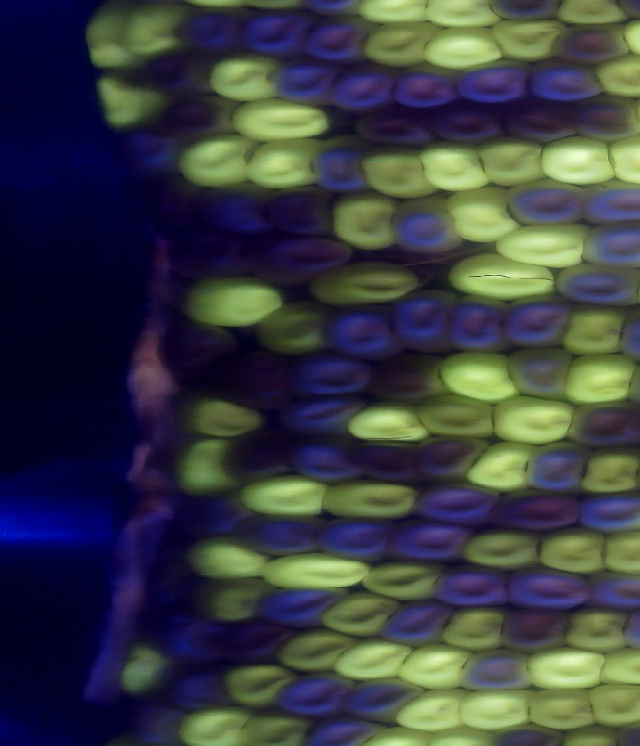fluorescent: (442, 245, 567, 307), (177, 272, 286, 332), (307, 255, 424, 309), (170, 130, 264, 195), (313, 473, 423, 527), (234, 468, 336, 526), (224, 95, 336, 147), (86, 68, 171, 135), (485, 392, 581, 451), (80, 1, 152, 79), (237, 133, 327, 195), (256, 549, 373, 596), (439, 182, 522, 248), (431, 344, 519, 405), (352, 145, 441, 205), (113, 1, 197, 64), (558, 349, 640, 413), (331, 186, 407, 255), (491, 218, 591, 270), (412, 389, 503, 446), (252, 302, 341, 360), (205, 48, 289, 109), (178, 535, 281, 584), (171, 391, 268, 443), (521, 643, 616, 696), (165, 435, 238, 503), (271, 624, 362, 678), (318, 587, 404, 643), (482, 13, 574, 65), (536, 132, 617, 190), (331, 634, 418, 688), (433, 599, 511, 659), (393, 639, 475, 696), (217, 658, 305, 711), (471, 130, 550, 189), (341, 400, 436, 449), (465, 435, 539, 497), (459, 523, 547, 575), (191, 572, 274, 627), (360, 17, 442, 72), (559, 299, 628, 363), (452, 685, 540, 734), (523, 683, 604, 736), (536, 526, 615, 580), (165, 698, 253, 746), (412, 138, 493, 190), (416, 24, 505, 71), (359, 557, 446, 603), (560, 601, 630, 657), (389, 686, 468, 734), (116, 636, 167, 704), (577, 443, 640, 497), (583, 677, 640, 732), (234, 708, 316, 746), (420, 1, 506, 34), (590, 49, 640, 101), (353, 1, 440, 29), (550, 1, 634, 30), (595, 527, 640, 580), (606, 128, 640, 196), (594, 644, 640, 690)
nonfluorescent: (205, 342, 299, 421), (151, 317, 243, 389), (245, 230, 356, 289), (318, 293, 406, 363), (136, 172, 214, 249), (138, 517, 204, 607), (486, 480, 588, 538), (190, 182, 285, 244), (500, 561, 600, 619), (158, 229, 259, 286), (390, 284, 464, 361), (140, 604, 233, 665), (407, 478, 512, 532), (360, 347, 452, 408), (498, 341, 583, 407), (497, 287, 578, 356), (380, 512, 477, 569), (383, 191, 467, 256), (257, 179, 342, 243), (248, 579, 352, 631), (162, 485, 260, 539), (271, 665, 362, 723), (506, 172, 595, 230), (166, 1, 258, 57), (375, 591, 456, 653), (240, 1, 322, 62), (408, 429, 497, 485), (218, 426, 297, 489), (133, 46, 221, 102), (442, 291, 520, 354), (240, 510, 336, 561), (308, 510, 398, 564), (214, 609, 296, 668), (282, 433, 368, 489), (520, 434, 594, 499), (428, 559, 517, 613), (337, 671, 427, 724), (452, 644, 541, 697), (452, 55, 536, 111), (499, 93, 583, 149), (153, 94, 245, 145), (423, 97, 511, 150), (495, 601, 578, 657), (521, 52, 608, 105), (345, 438, 432, 491), (555, 259, 640, 313), (285, 350, 375, 401), (277, 388, 374, 435), (385, 59, 469, 113), (345, 103, 437, 152), (563, 398, 640, 455), (308, 131, 374, 197), (299, 11, 378, 66), (109, 123, 182, 182), (267, 55, 341, 111), (327, 58, 403, 112), (552, 21, 637, 69), (156, 666, 239, 714), (572, 91, 640, 144), (579, 213, 640, 272), (573, 485, 640, 538), (120, 693, 187, 746), (579, 177, 640, 227), (578, 566, 640, 615), (297, 712, 384, 746), (482, 1, 566, 27), (610, 715, 640, 746)
